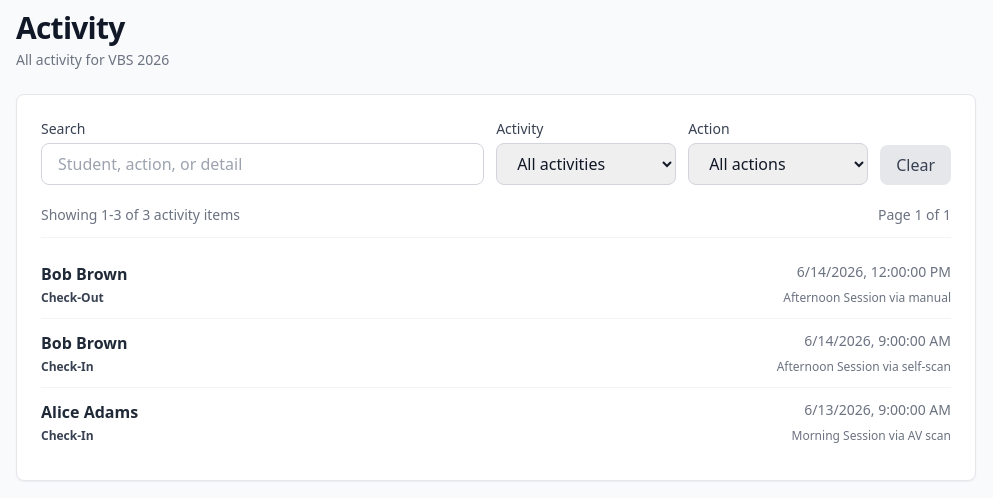
it: ActivityPage › filters activity by search, activity, and action
Check: the text "Alice Adams" is shown, box [41,400,138,424]
Check: the text "Showing 1-3 of 3 activity items" is shown, box [41,205,240,225]
Type "Alice" into the field named "Search activity" at point(263, 164), box [41,143,484,185]
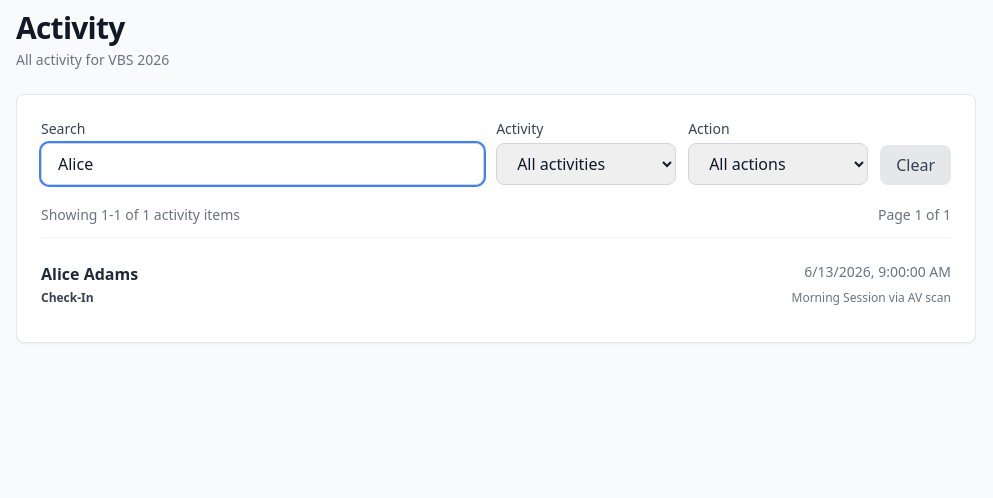
Check: the text "Alice Adams" is shown, box [41,262,138,286]
Check: the text "Showing 1-1 of 1 activity items" is shown, box [41,205,240,225]
Check: the text "Bob Brown" is gone
Click the button "Clear" at point(916, 165), box [880,145,951,185]
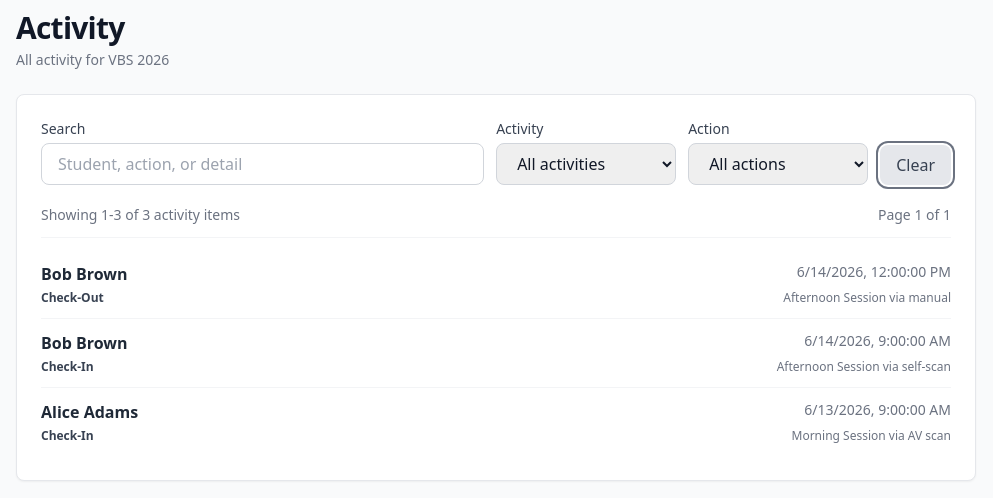
Select "Afternoon Session" in the dropdown labelled "Activity" at point(586, 164), box [496,143,676,185]
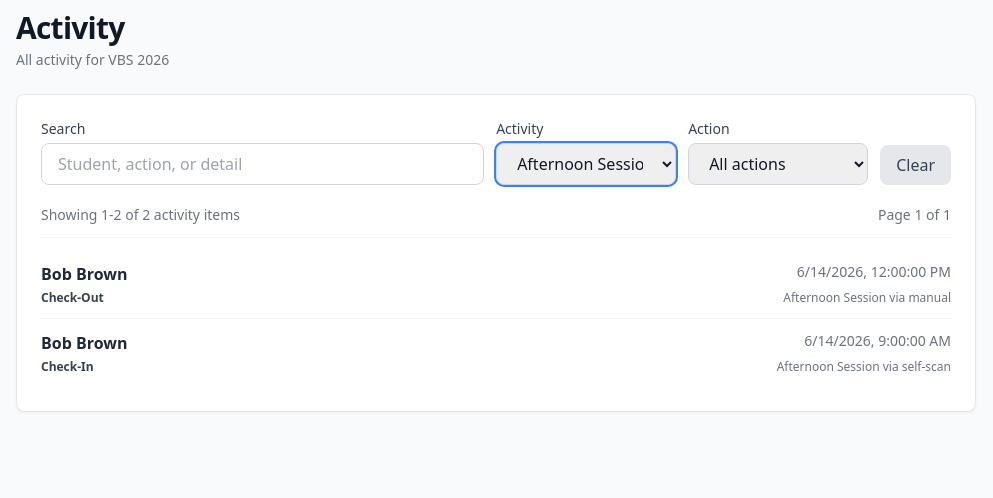
Check: the text "Showing 1-2 of 2 activity items" is shown, box [41,205,240,225]
Check: the text "Alice Adams" is gone
Check: the text "Bob Brown" is shown 2 times, box [41,262,127,286]; [41,331,127,355]
Select "Check-Out" in the dropdown labelled "Action" at point(778, 164), box [688,143,868,185]
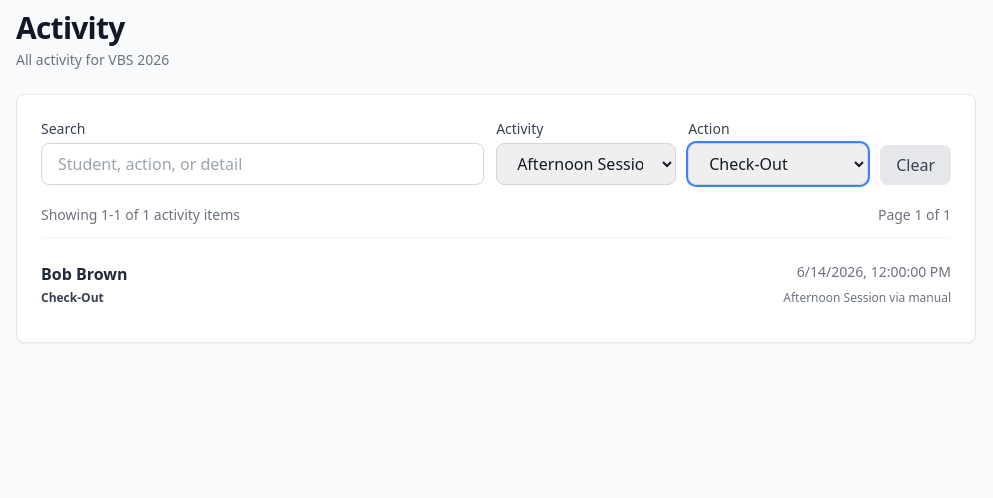
Check: the text "Check-Out" is shown, box [41,290,104,306]
Check: the text "Showing 1-1 of 1 activity items" is shown, box [41,205,240,225]
Check: the text "Check-In" is gone
